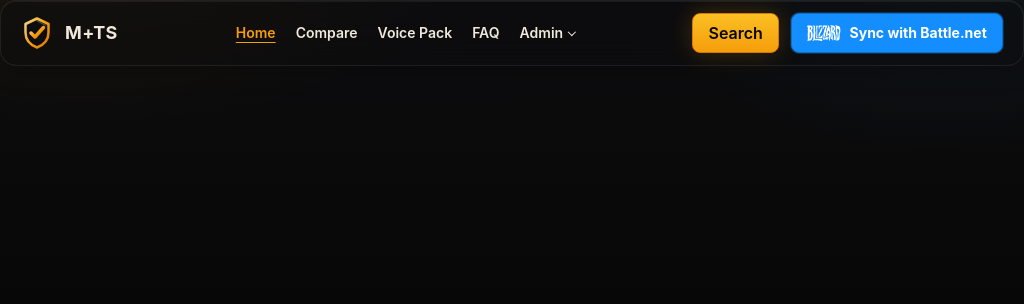
Test: AppHeader admin navigation › shows all admin destinations when fully authorized
Click the button with test id "nav-dropdown-trigger": (547, 33) [520,22,574,44]
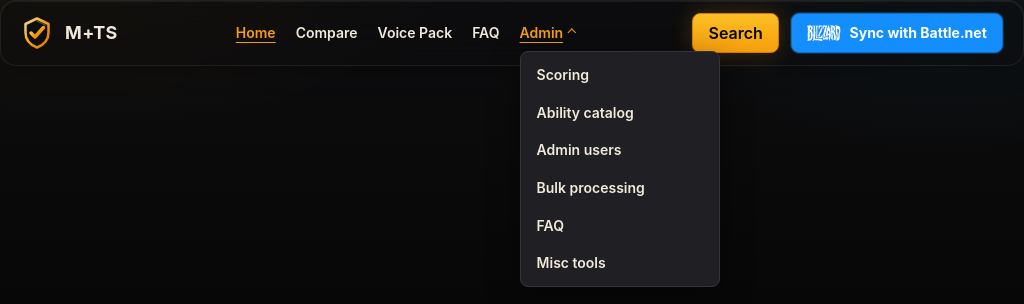
Check: the element with test id "admin-nav-dropdown" shows "Scoring", box [525,56,715,94]
Check: the element with test id "admin-nav-dropdown" shows "Ability catalog", box [525,94,715,131]
Check: the element with test id "admin-nav-dropdown" shows "Admin users", box [525,131,715,169]
